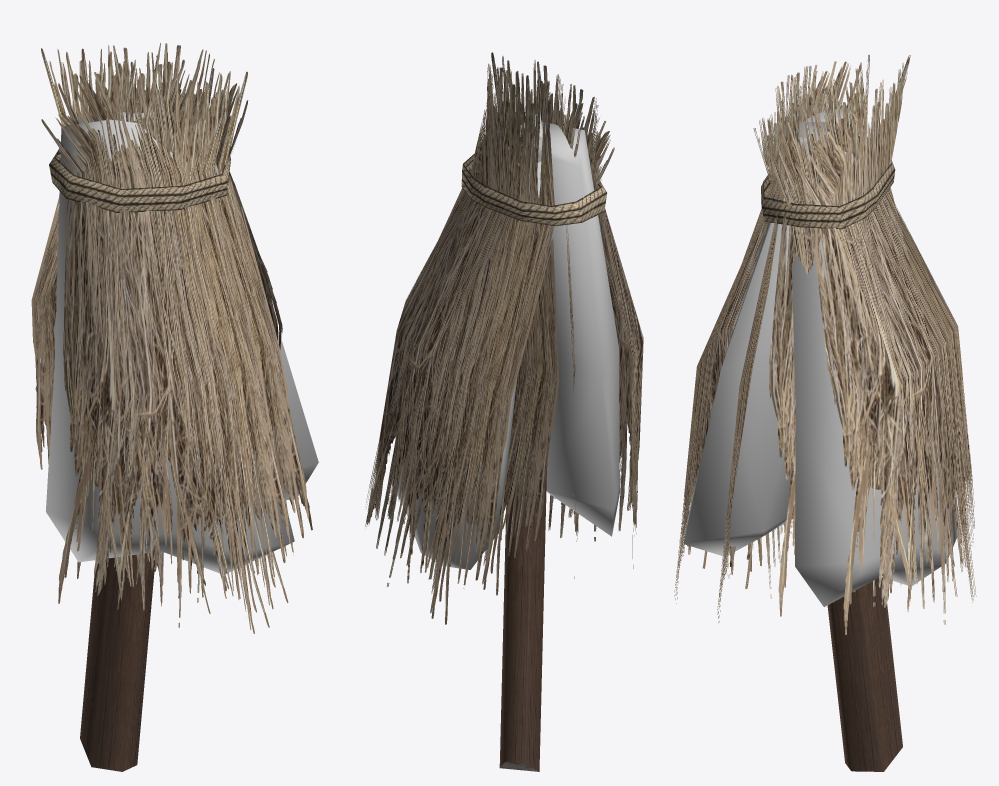
File: jov_rice_rag01b.fbx
The picture shows the model from 3 angles, left to right: view 1: azimuth 30°, elevation 25°; view 2: azimuth 150°, elevation 25°; view 3: azimuth 270°, elevation 25°; orthographic projection. The views are drawn at different scales.
Parts seen in each view (by area): view 1: jov_rice_rag01b; view 2: jov_rice_rag01b; view 3: jov_rice_rag01b.
Part boxes in pixels (<box>): jov_rice_rag01b: <box>31,43,318,771</box>; jov_rice_rag01b: <box>365,52,643,771</box>; jov_rice_rag01b: <box>674,55,976,771</box>.
Size of the model in its own units: 64.6 by 158 by 61.46.
